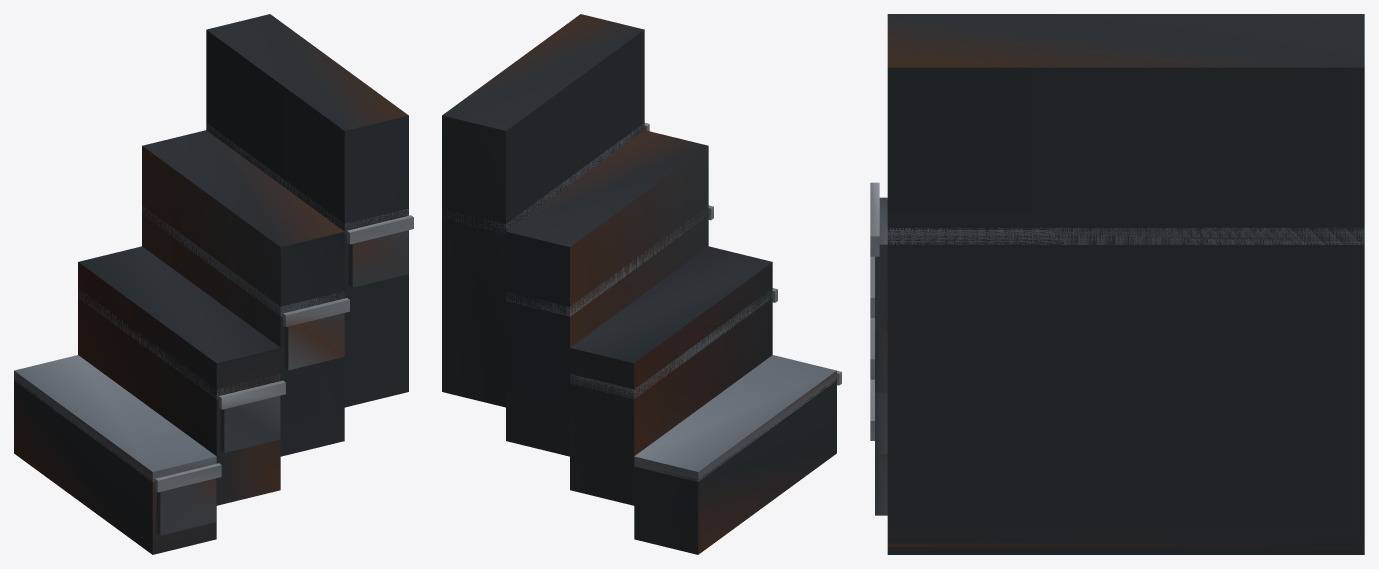
The model's file is stair.glb.
3 views of the same model, side by side, from view 1: azimuth 30°, elevation 25°; view 2: azimuth 150°, elevation 25°; view 3: azimuth 270°, elevation 25° (orthographic). The views are drawn at different scales.
Visible parts, largest first — view 1: stair; view 2: stair; view 3: stair.
Part boxes in pixels (x1,y1,x2,y2): stair: (14, 14, 413, 554); stair: (442, 14, 841, 554); stair: (870, 14, 1364, 554).
Bounding box in the file's own units: 32 × 45 × 31.1.
